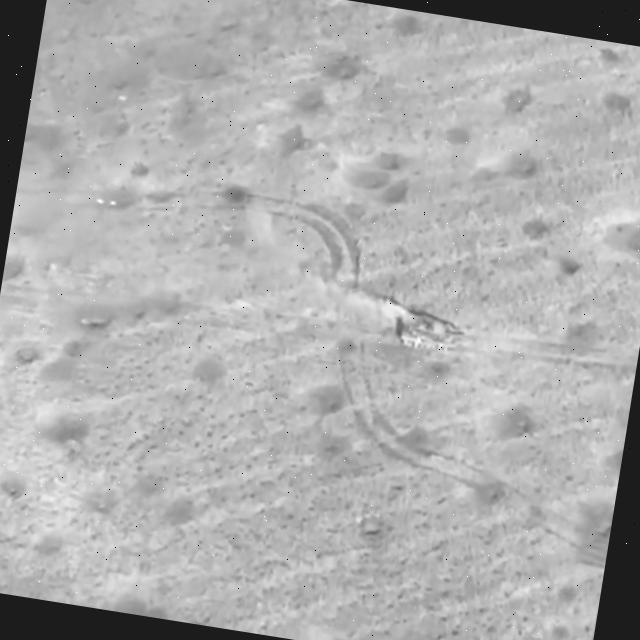MBT: (398, 311, 476, 360)
